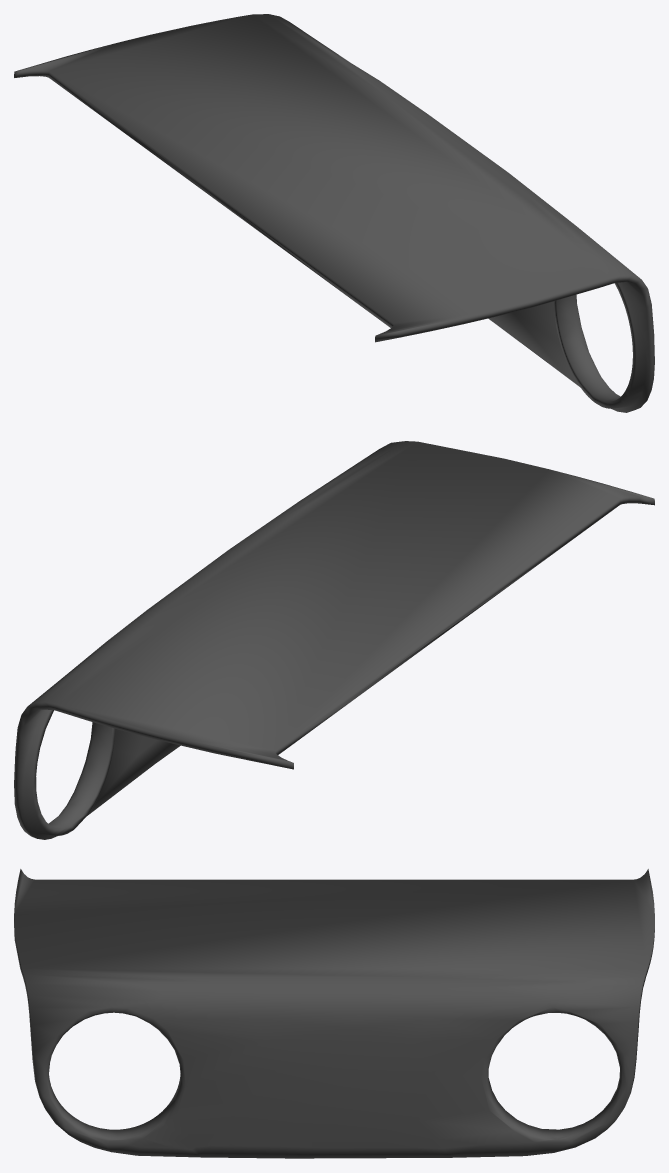
The model's file is head_upper.dae.
3 renders of one model, top to bottom at view 1: azimuth 30°, elevation 25°; view 2: azimuth 150°, elevation 25°; view 3: azimuth 270°, elevation 25°, orthographic. The views are drawn at different scales.
Visible parts, largest first — view 1: Head_Upper; view 2: Head_Upper; view 3: Head_Upper.
Part boxes in pixels (x1=…): Head_Upper: x1=14, y1=14, x2=654, y2=412; Head_Upper: x1=14, y1=441, x2=654, y2=839; Head_Upper: x1=14, y1=869, x2=654, y2=1158.
Bounding box in the file's own units: 0.0962 × 0.2042 × 0.0572.
Materials: 1 (1 with a texture image).
